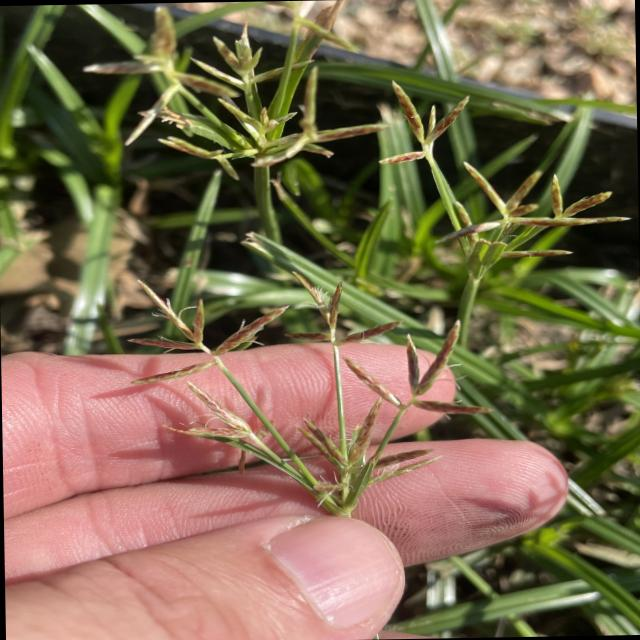cyperus: (110, 19, 640, 528)
